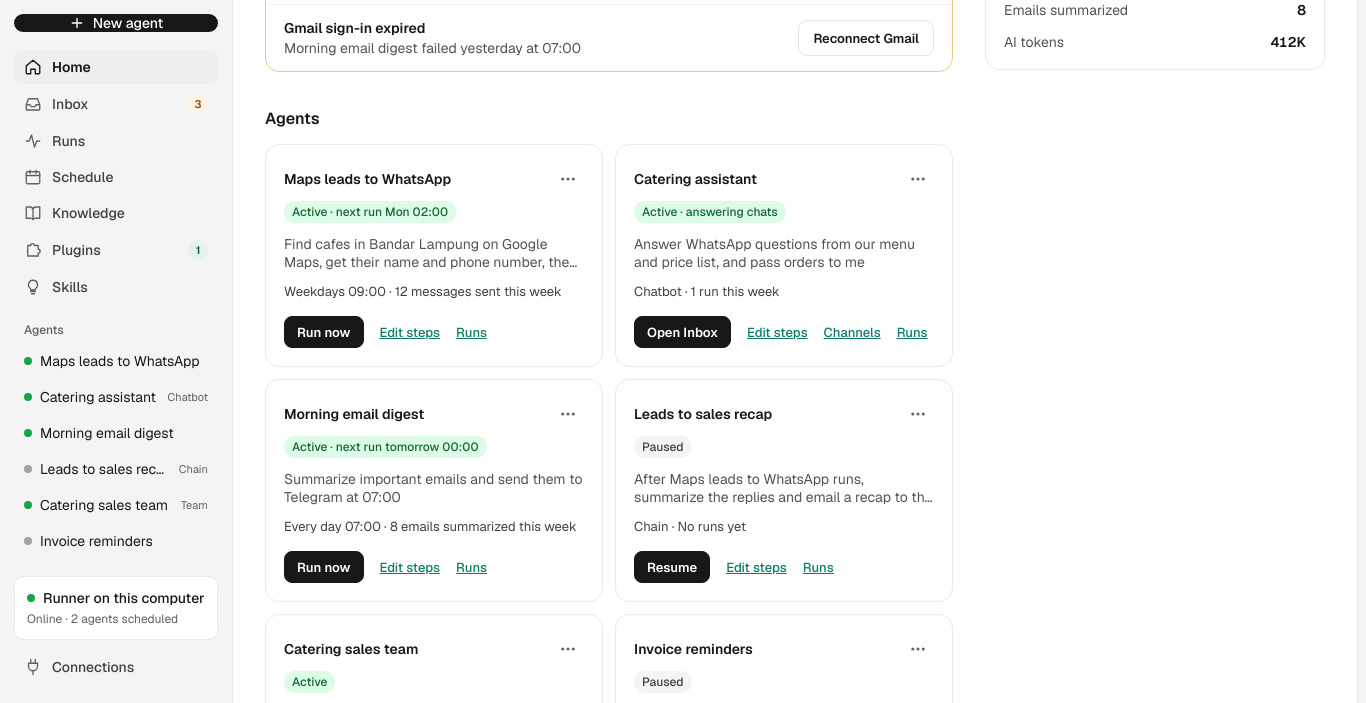
Test: HomePage › starts a manual run with the last inputs from "Run now"
(page scrolled)
Click the button "Run now" below "Active · next run Mon 02:00": (324, 332) [284,316,364,348]
(page scrolled)
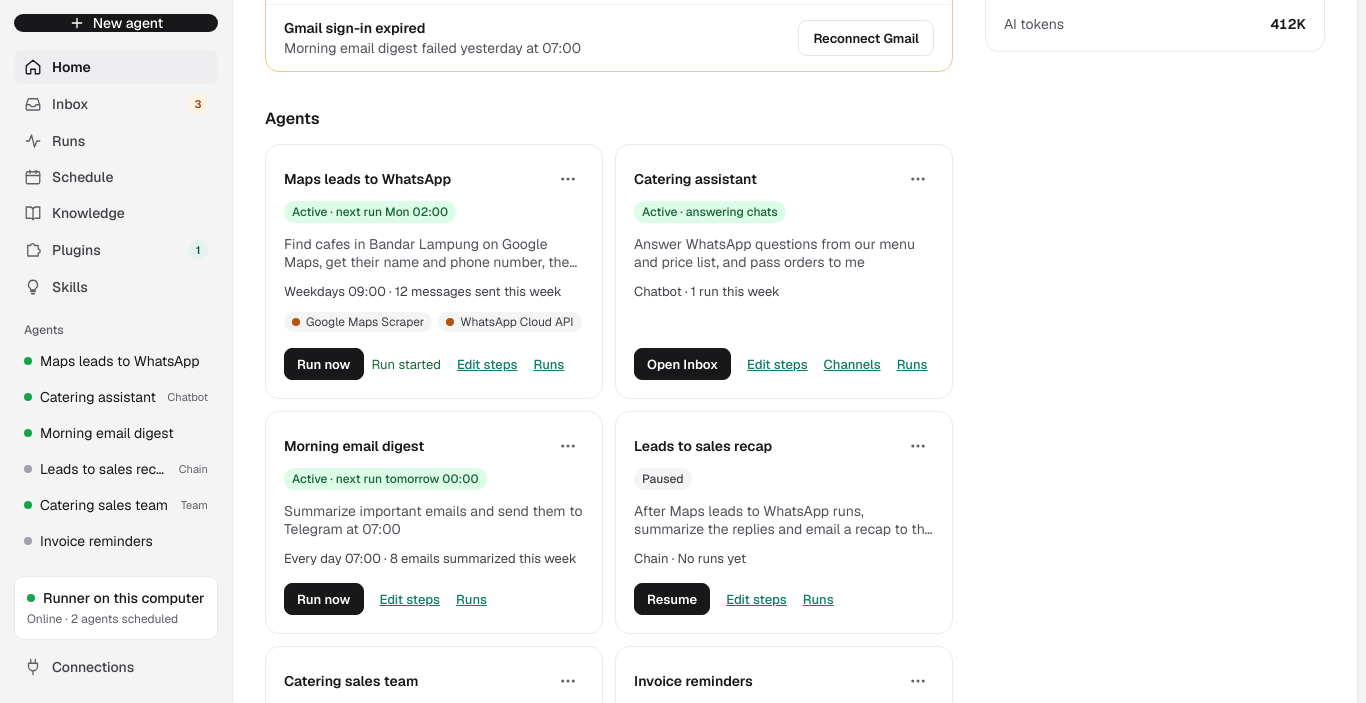
Expected: the text "Run started" is shown, [372,356,441,372]
